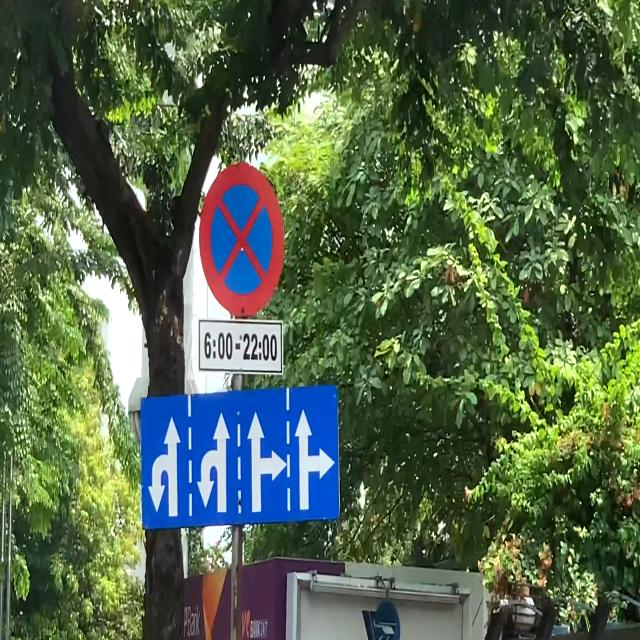P.130: (199, 161, 284, 317)
